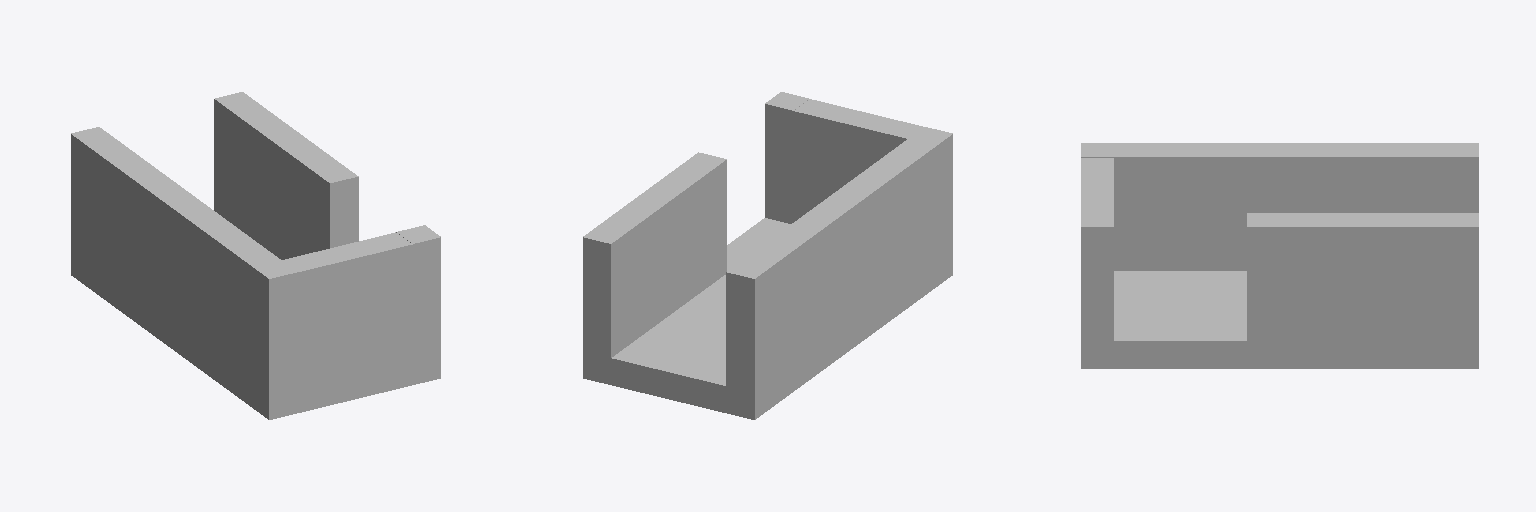
File: module4.obj
3 views of the same model, side by side, from view 1: azimuth 30°, elevation 25°; view 2: azimuth 150°, elevation 25°; view 3: azimuth 270°, elevation 25° (orthographic).
Visible parts, largest first — view 1: Cube.003; view 2: Cube.003; view 3: Cube.003.
Part boxes in pixels (left/top/right/bottom): Cube.003: left=71, top=92, right=440, bottom=419; Cube.003: left=583, top=92, right=952, bottom=419; Cube.003: left=1081, top=143, right=1478, bottom=368.
Bounding box in the file's own units: 6 × 4.7 × 12.